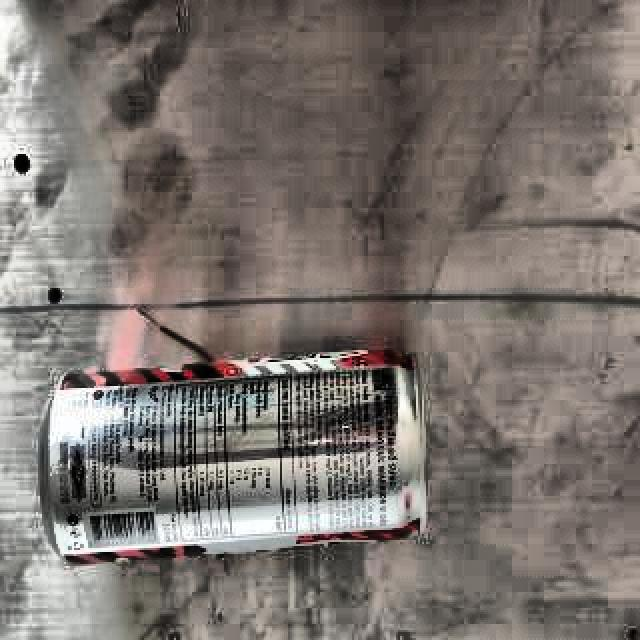metal: (18, 334, 444, 606)
